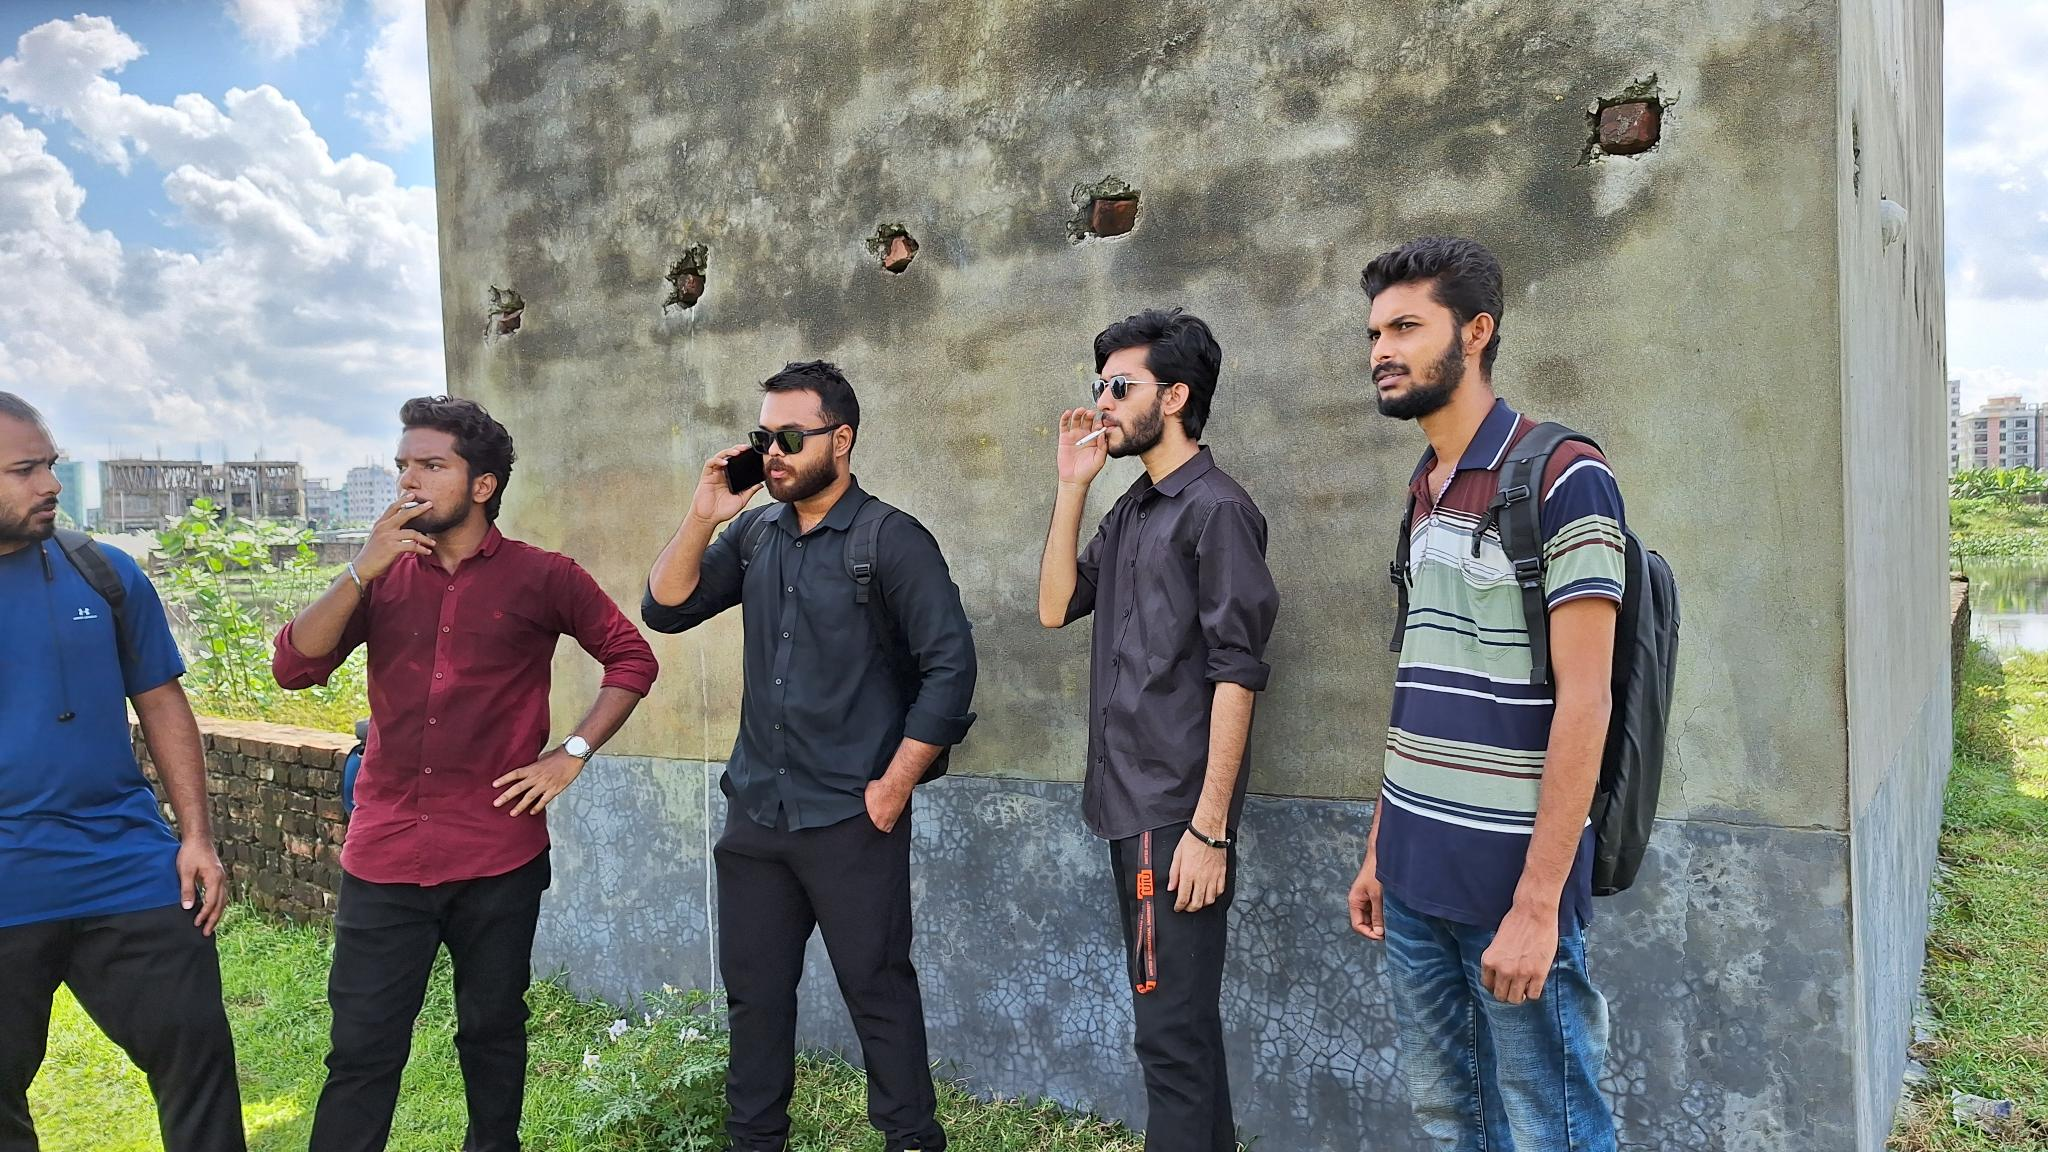cigarette: (1073, 425, 1108, 447), (398, 499, 419, 511)
nonSmoker: (1345, 233, 1677, 1152), (637, 360, 972, 1152), (0, 387, 246, 1152)
smoker: (273, 397, 657, 1152), (1038, 309, 1277, 1152)
